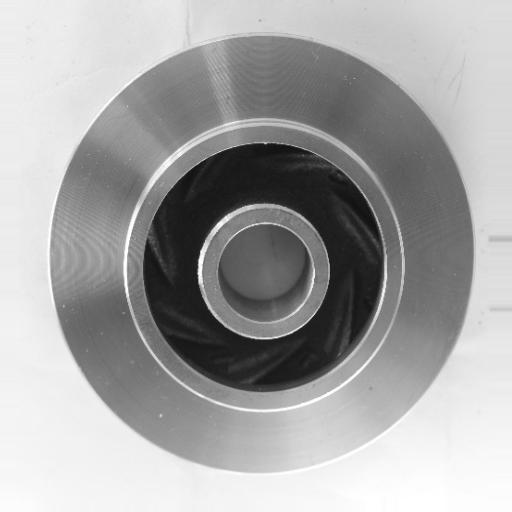polished_casting: (48, 34, 479, 478)
